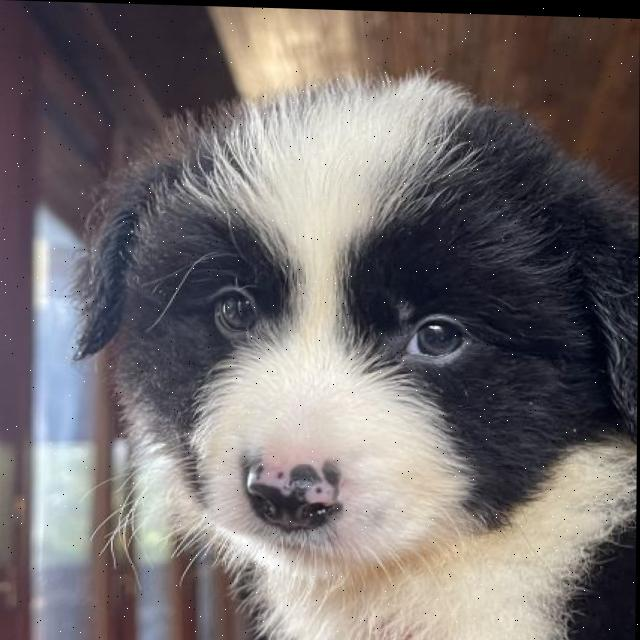BORDER_COLLIE: (62, 61, 640, 640)
